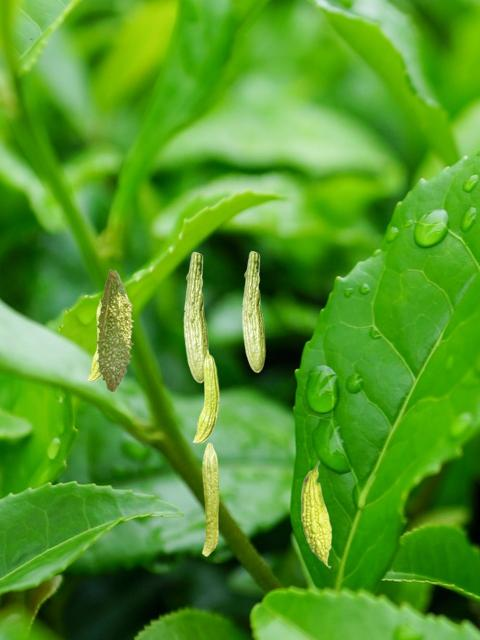ampalaya: (95, 269, 134, 393), (300, 460, 332, 569), (183, 251, 209, 383), (241, 250, 266, 373), (192, 349, 220, 443), (201, 442, 219, 556), (86, 299, 101, 381)
